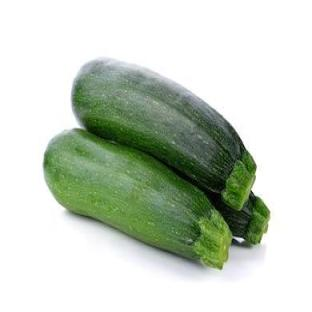Zucchini: (72, 59, 255, 209), (44, 130, 231, 268), (208, 192, 270, 243)
